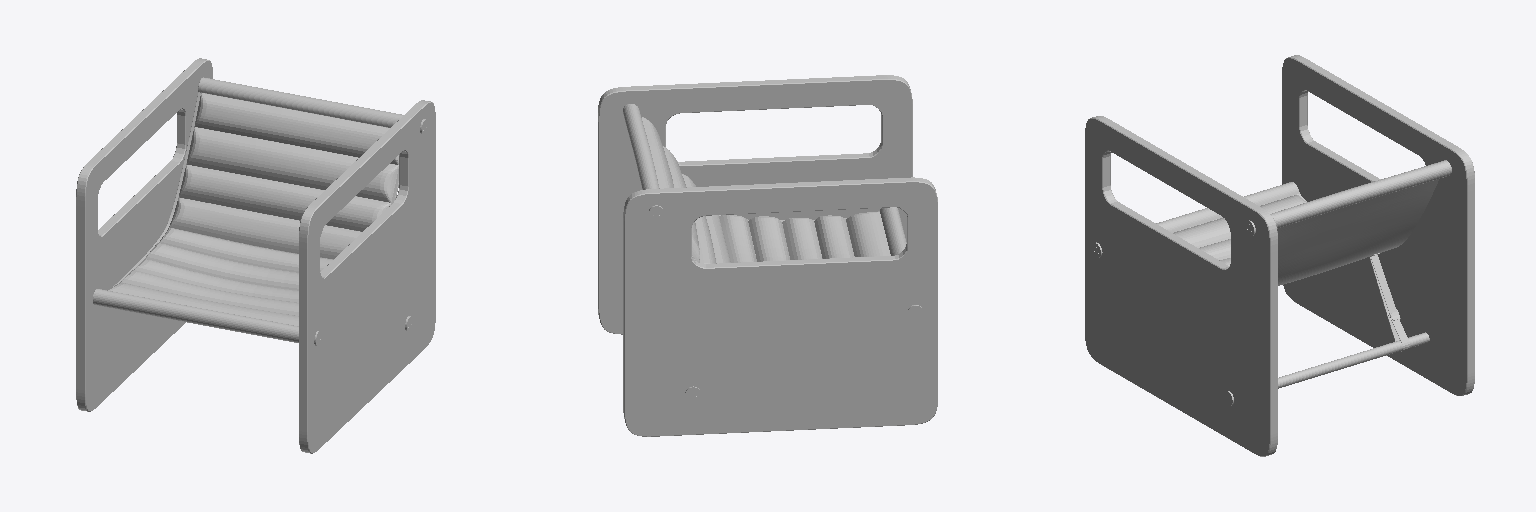
File: Art DECO chair.obj
The picture shows the model from 3 angles: view 1: azimuth 30°, elevation 25°; view 2: azimuth 150°, elevation 25°; view 3: azimuth 270°, elevation 25°; orthographic projection.
Parts seen in each view (by area): view 1: AM121_043_00; view 2: AM121_043_00; view 3: AM121_043_00.
Part boxes in pixels (bbox=[...]): AM121_043_00: bbox=[76, 58, 435, 453]; AM121_043_00: bbox=[598, 75, 937, 436]; AM121_043_00: bbox=[1085, 55, 1474, 456].
Bounding box in the file's own units: 1096 × 730 × 1058.